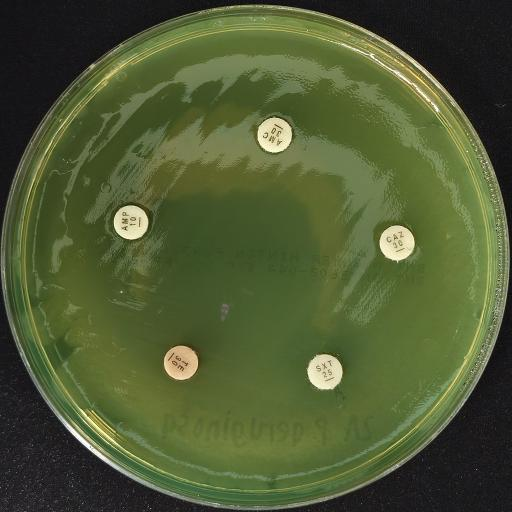disc: (257, 116, 293, 152), (307, 354, 343, 390), (380, 224, 414, 262), (114, 204, 148, 240), (164, 345, 198, 381)
